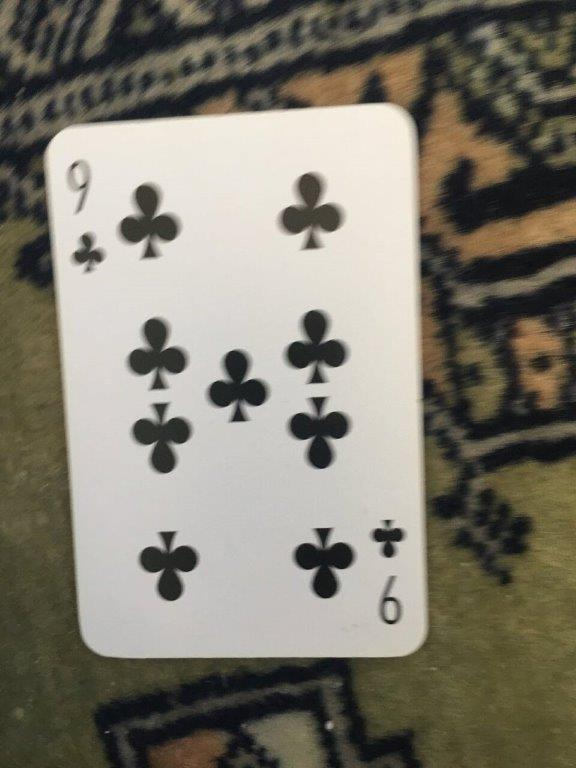9C: (39, 98, 433, 662)
